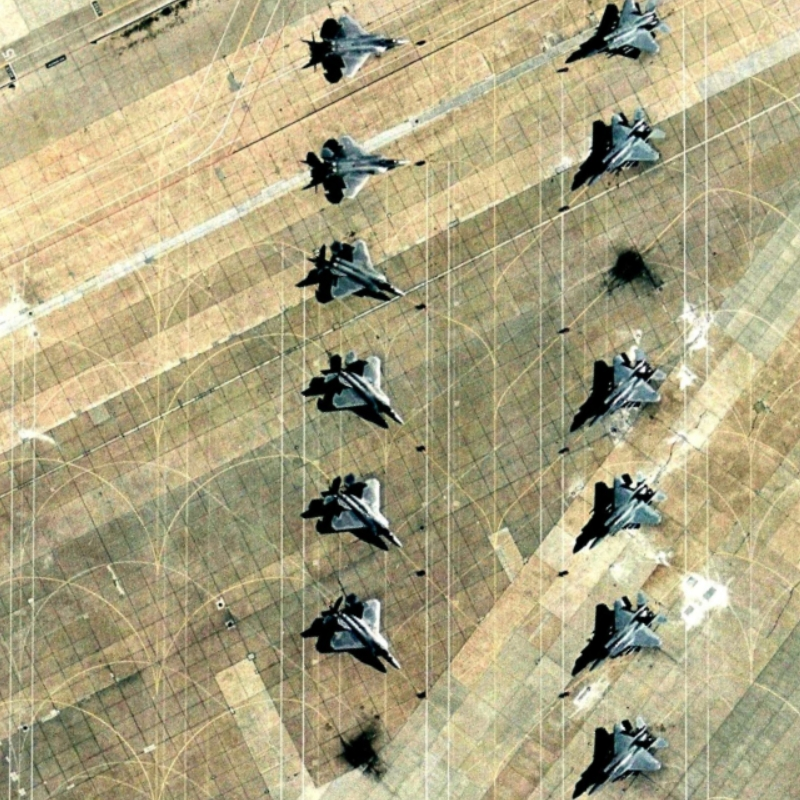A13: (584, 345, 672, 431), (584, 587, 669, 676), (585, 714, 672, 797), (584, 99, 662, 191), (586, 471, 673, 553), (577, 1, 671, 63)
A15: (308, 11, 420, 96), (316, 472, 408, 558), (315, 349, 410, 432), (314, 130, 416, 204), (317, 592, 406, 676), (315, 236, 410, 309)
